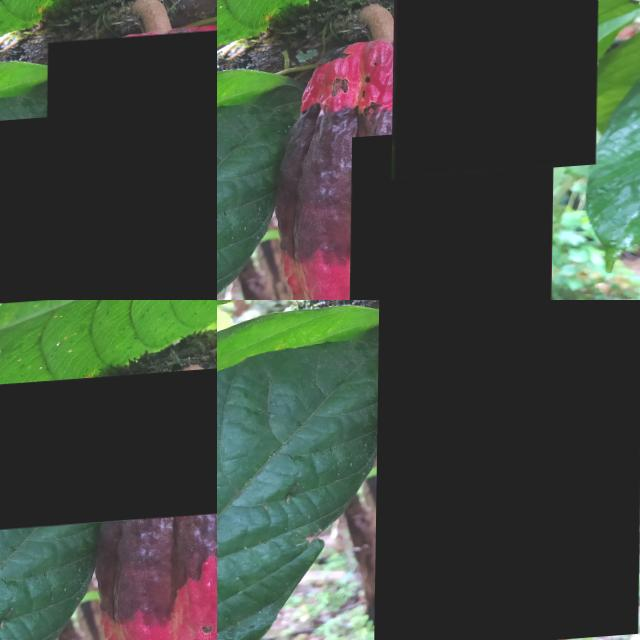Fitoftora: (375, 300, 640, 640), (0, 118, 70, 300)
Monilia: (0, 354, 217, 534), (392, 0, 599, 184)
Sana: (45, 34, 217, 300), (348, 129, 554, 300)
